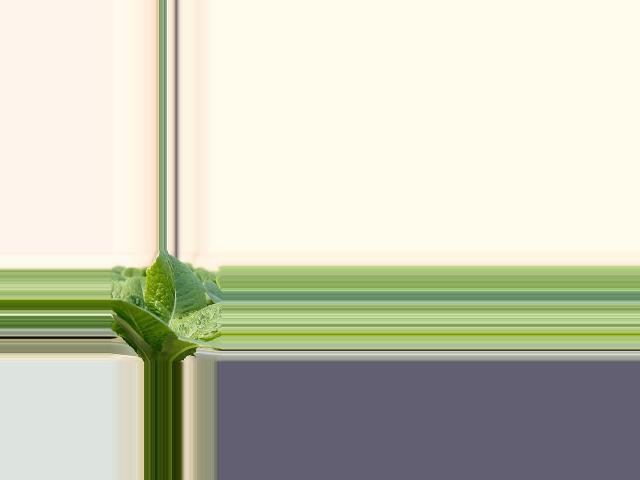lettuce: (112, 260, 210, 362)
